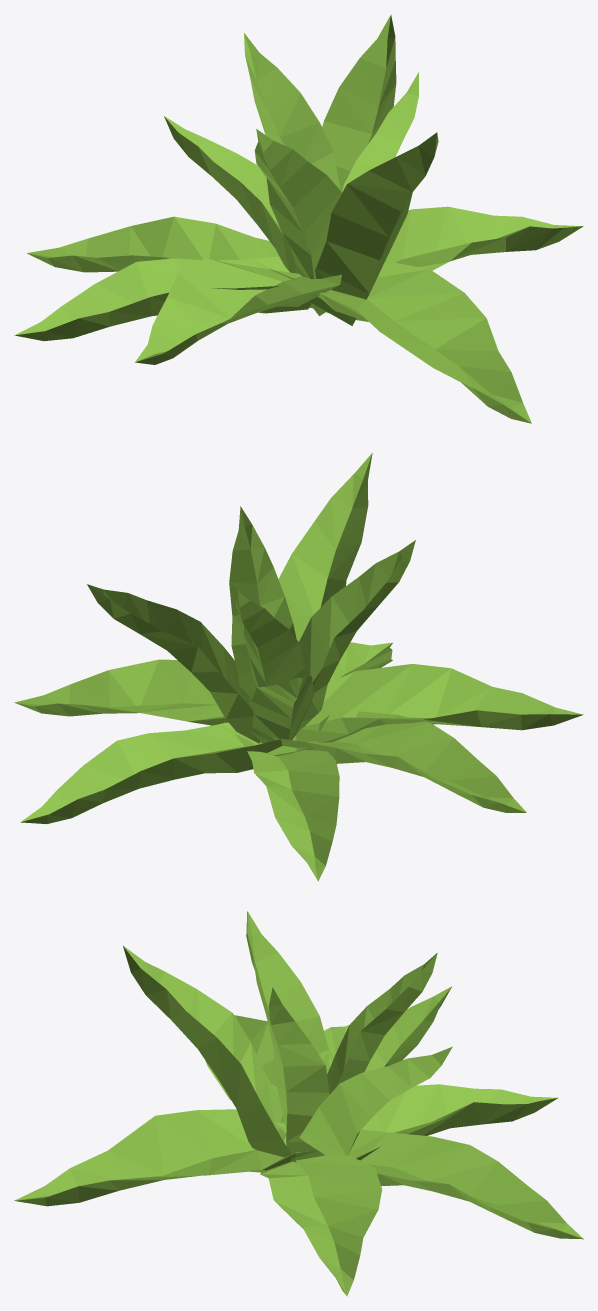
The model's file is generic flower 3.glb.
3 views of the same model, one above another, from view 1: azimuth 30°, elevation 25°; view 2: azimuth 150°, elevation 25°; view 3: azimuth 270°, elevation 25° (orthographic). The views are drawn at different scales.
Parts seen in each view (by area): view 1: group783281343, group1758196251, group266082552, group595482761, group158731365, group1439209696, group1238384977, group1990659664, group1318692651, group1894289659, group1945249999; view 2: group266082552, group303338039, group158731365, group1439209696, group1758196251, group1990659664, group595482761, group1238384977, group1945249999, group1318692651, group1894289659, group783281343; view 3: group783281343, group303338039, group1758196251, group1439209696, group595482761, group1990659664, group1945249999, group1238384977, group1318692651, group1894289659, group266082552.
Part boxes in pixels (left/top/right/bottom): group783281343: left=270, top=261, right=531, bottom=423; group1758196251: left=309, top=132, right=438, bottom=325; group266082552: left=135, top=258, right=341, bottom=364; group595482761: left=27, top=216, right=312, bottom=308; group158731365: left=14, top=256, right=311, bottom=341; group1439209696: left=385, top=206, right=583, bottom=270; group1238384977: left=254, top=129, right=341, bottom=315; group1990659664: left=322, top=15, right=396, bottom=191; group1318692651: left=244, top=33, right=341, bottom=192; group1894289659: left=164, top=116, right=295, bottom=273; group1945249999: left=342, top=72, right=418, bottom=192; group266082552: left=259, top=664, right=583, bottom=756; group303338039: left=20, top=722, right=286, bottom=824; group158731365: left=272, top=711, right=526, bottom=812; group1439209696: left=14, top=659, right=228, bottom=725; group1758196251: left=278, top=453, right=372, bottom=710; group1990659664: left=87, top=584, right=263, bottom=743; group595482761: left=235, top=733, right=339, bottom=881; group1238384977: left=294, top=540, right=415, bottom=736; group1945249999: left=229, top=506, right=296, bottom=698; group1318692651: left=235, top=590, right=305, bottom=694; group1894289659: left=251, top=675, right=313, bottom=741; group783281343: left=251, top=642, right=392, bottom=743; group783281343: left=14, top=1109, right=317, bottom=1206; group303338039: left=348, top=1129, right=583, bottom=1239; group1758196251: left=123, top=946, right=296, bottom=1162; group1439209696: left=260, top=1155, right=382, bottom=1296; group595482761: left=356, top=1084, right=558, bottom=1160; group1990659664: left=299, top=1046, right=452, bottom=1156; group1945249999: left=268, top=987, right=329, bottom=1160; group1238384977: left=246, top=911, right=329, bottom=1128; group1318692651: left=327, top=953, right=437, bottom=1094; group1894289659: left=364, top=986, right=452, bottom=1071; group266082552: left=205, top=1015, right=331, bottom=1133.
Size of the model in its own units: 1.7 by 0.7631 by 1.6.
